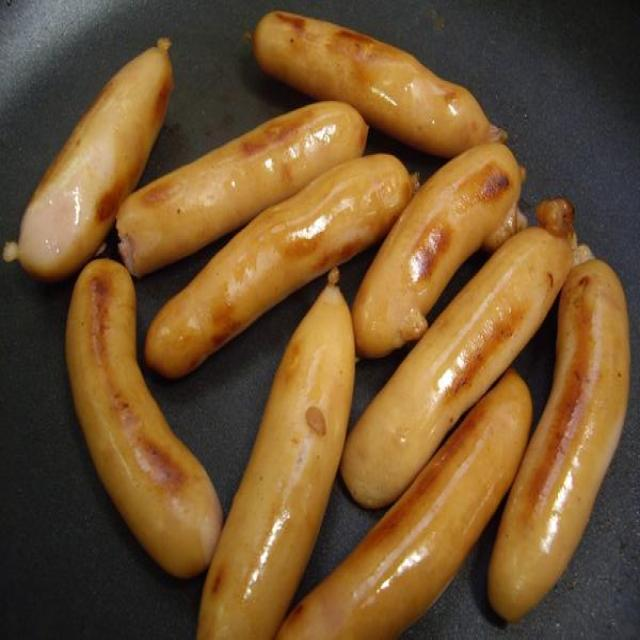Sausage: (0, 0, 629, 634)
